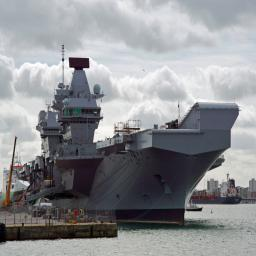Portanaves: (20, 43, 242, 227)
